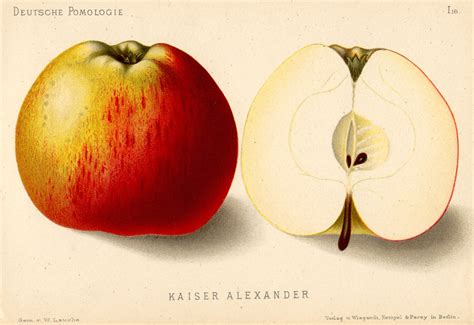apple: (13, 37, 241, 242)
